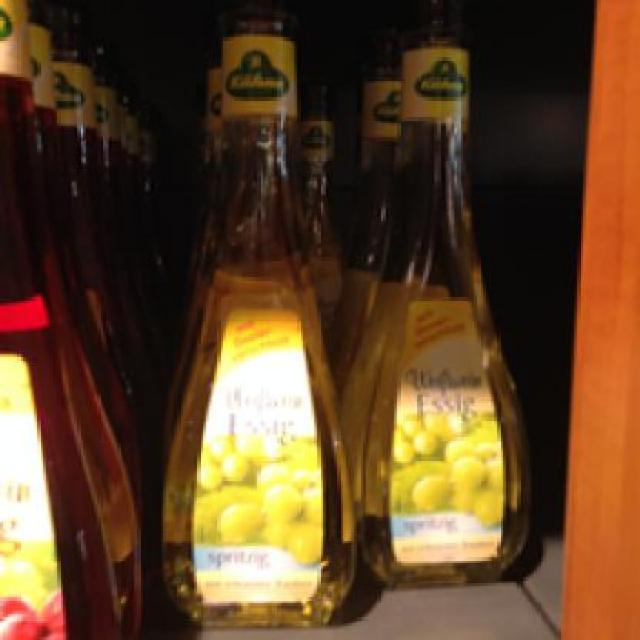Vinegar: (151, 26, 380, 623), (340, 43, 551, 583)
